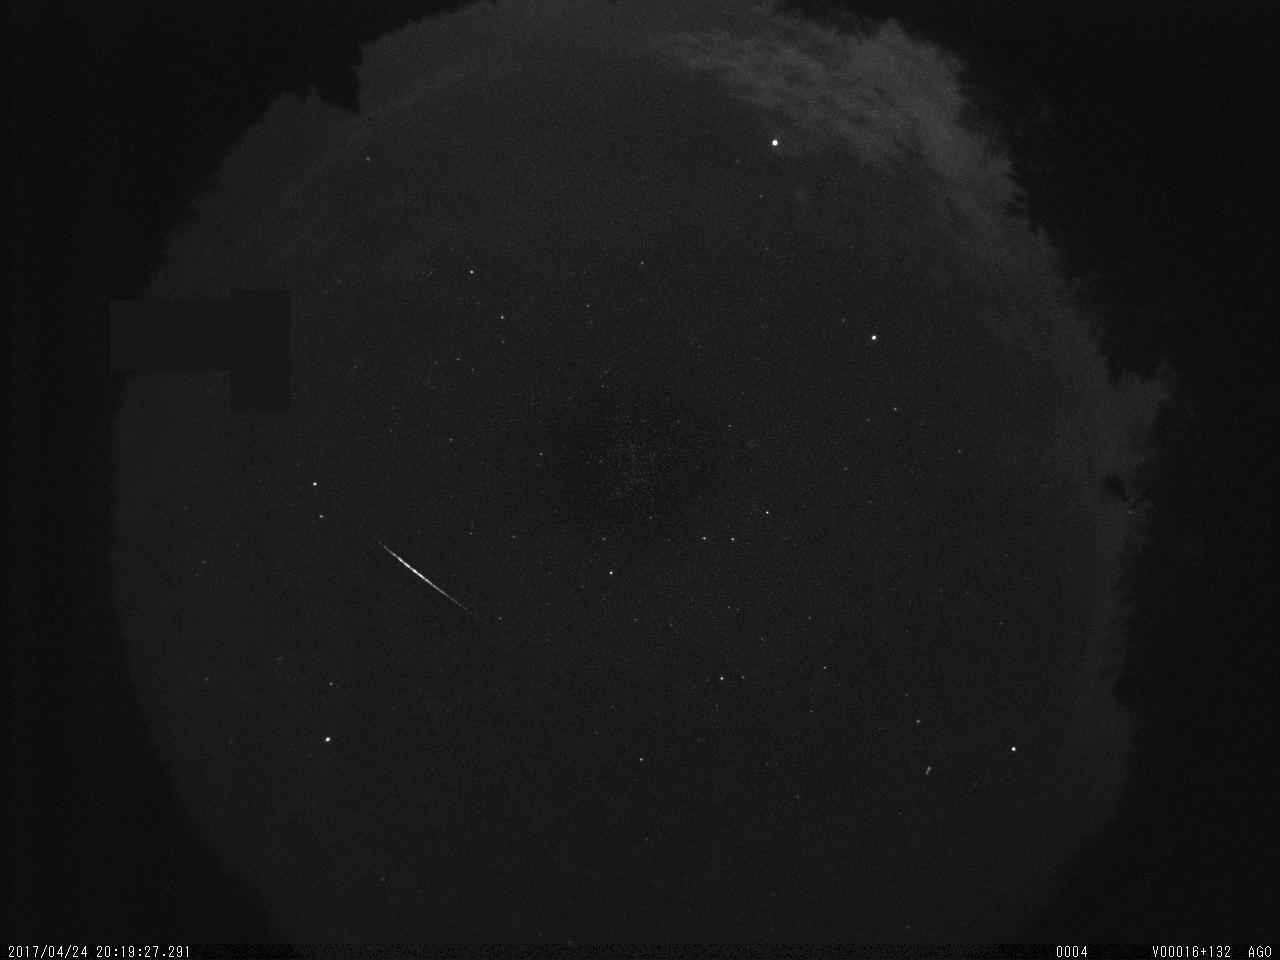meteor: (356, 525, 495, 634)
